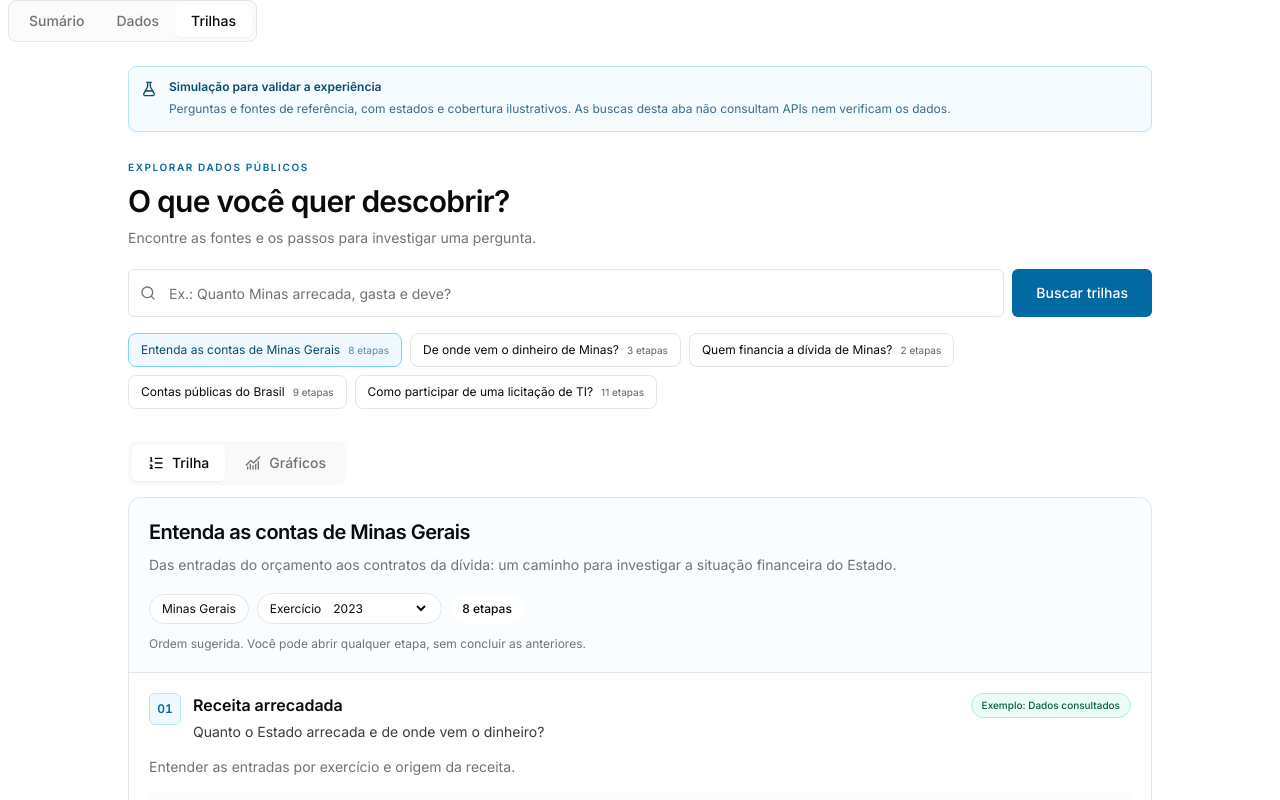
Scenario: FonteDeDadosView › abre diretamente a simulação de trilhas sem depender da API do catálogo
The image size is (1280, 800).
Expected: the text "Simulação para validar a experiência" is shown, x1=169 y1=79 x2=381 y2=94
Click the button "Como participar de uma licitação de TI?11 etapas" at point(506, 392), box x1=355 y1=375 x2=657 y2=409
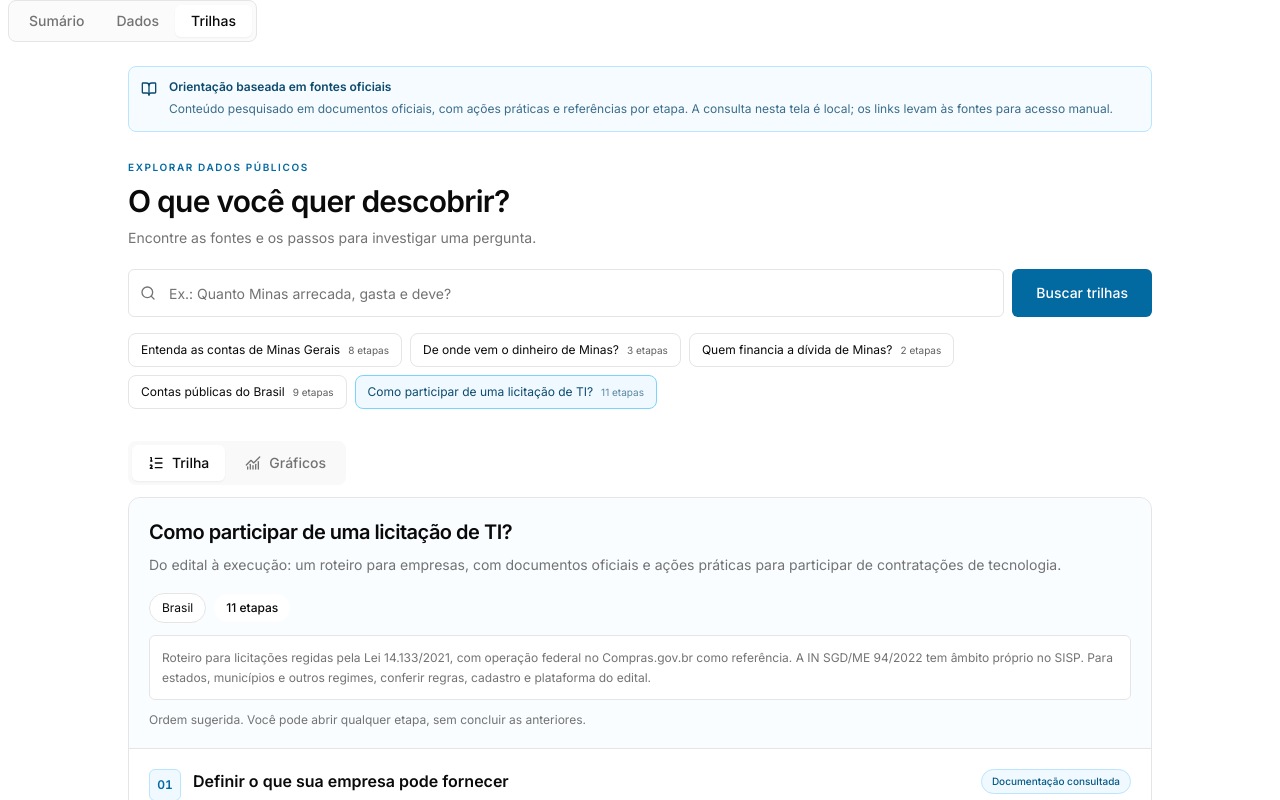
Expected: the text "Orientação baseada em fontes oficiais" is shown, x1=169 y1=79 x2=392 y2=94
